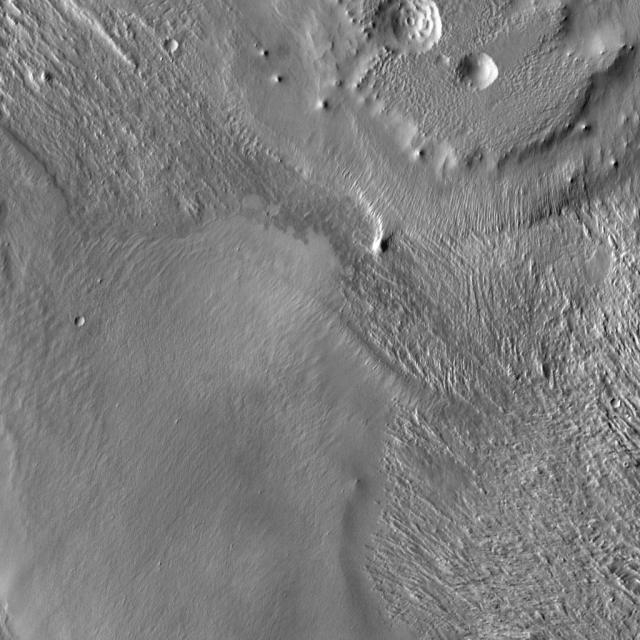crater: (375, 0, 443, 56), (460, 53, 497, 89), (164, 38, 178, 52), (611, 397, 623, 408), (76, 316, 86, 326), (408, 15, 416, 23)
